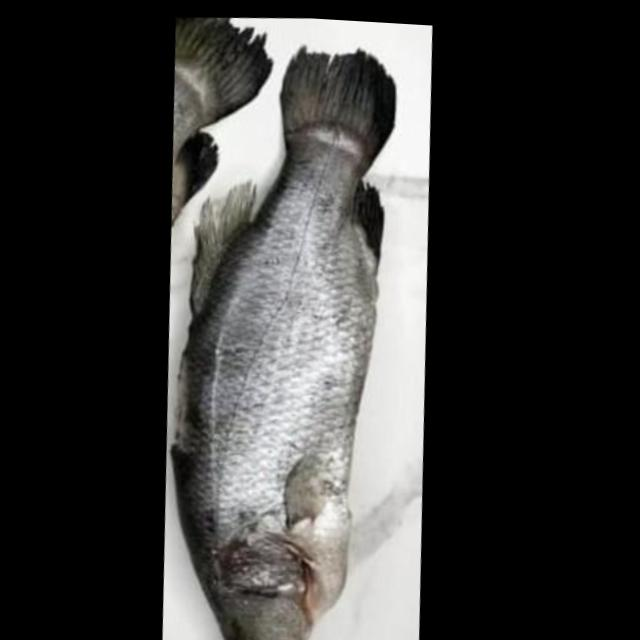Seabass: (132, 36, 429, 640)
